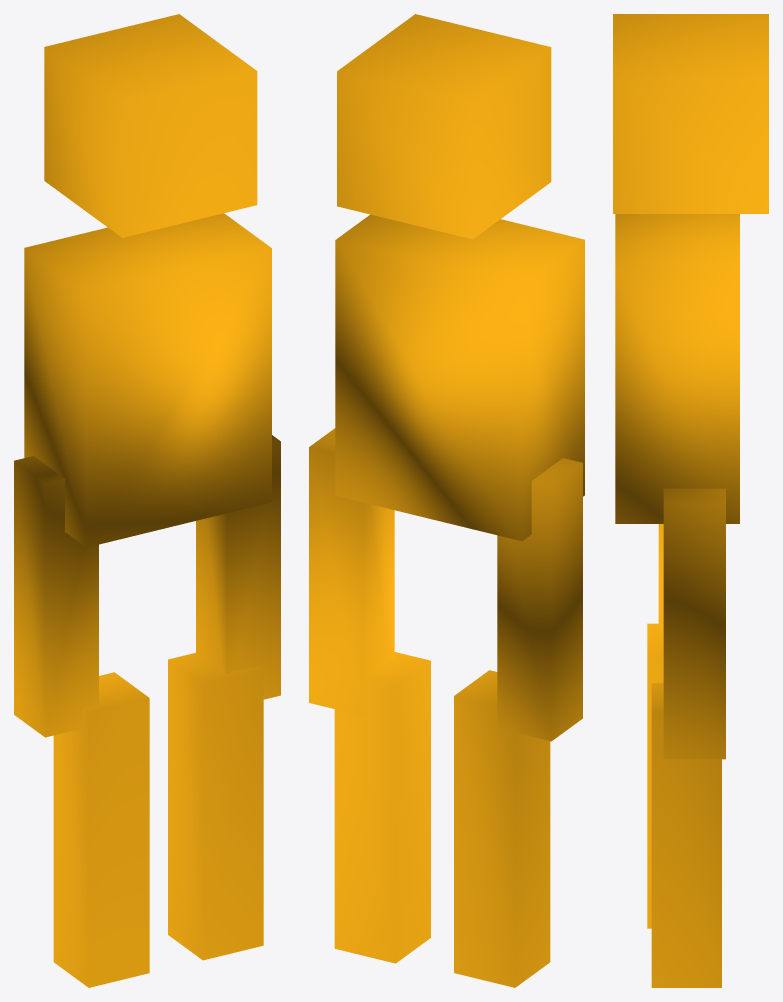
Rendered from ps2_jrpg_corrupted_cultist_npc.obj.
3 views of the same model, side by side, from view 1: azimuth 30°, elevation 25°; view 2: azimuth 150°, elevation 25°; view 3: azimuth 270°, elevation 25° (orthographic).
Bounding box in the file's own units: 0.7066 × 2.54 × 0.4.
